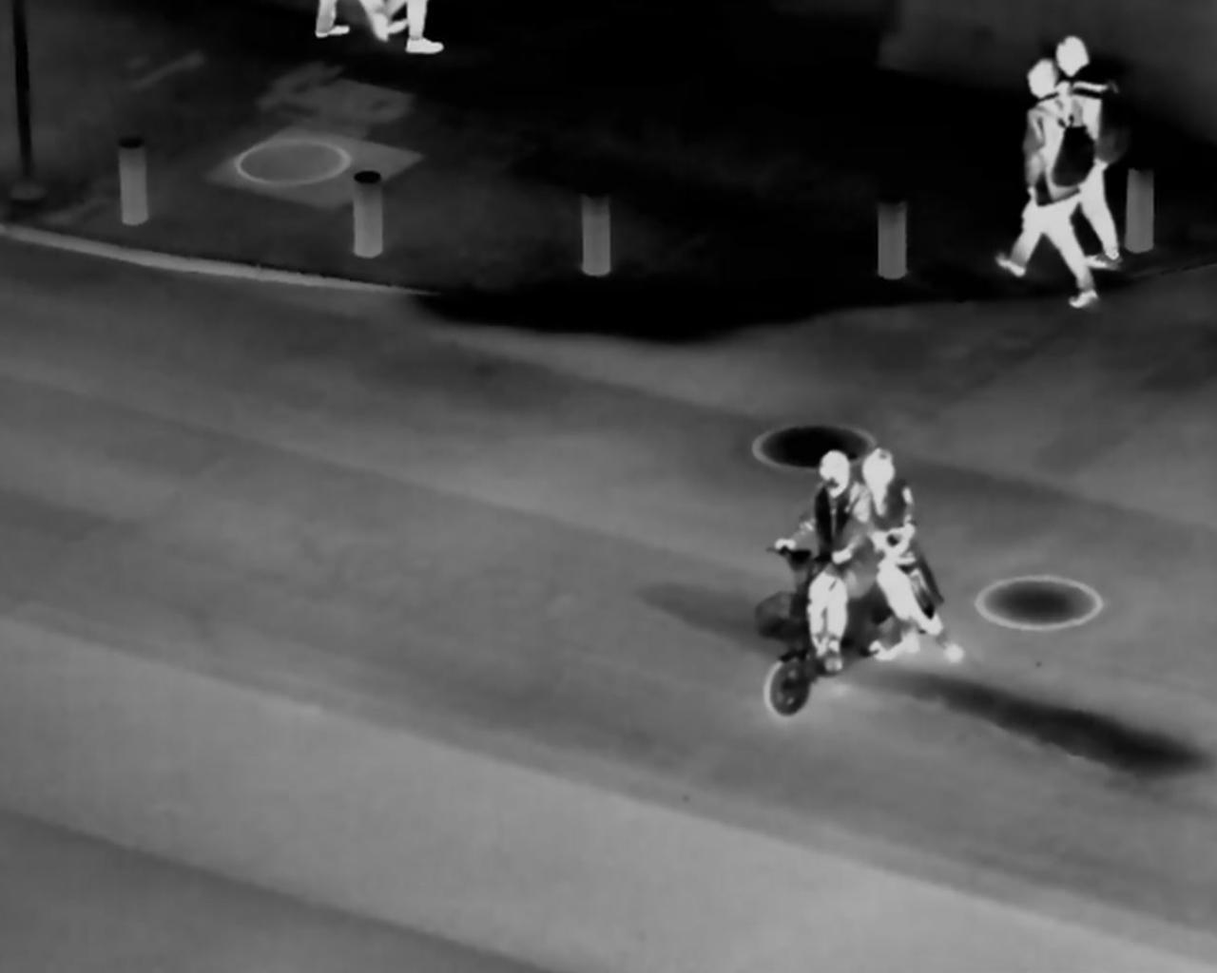person: (844, 429, 965, 680), (780, 439, 879, 691), (992, 63, 1091, 311), (1051, 31, 1128, 268)
